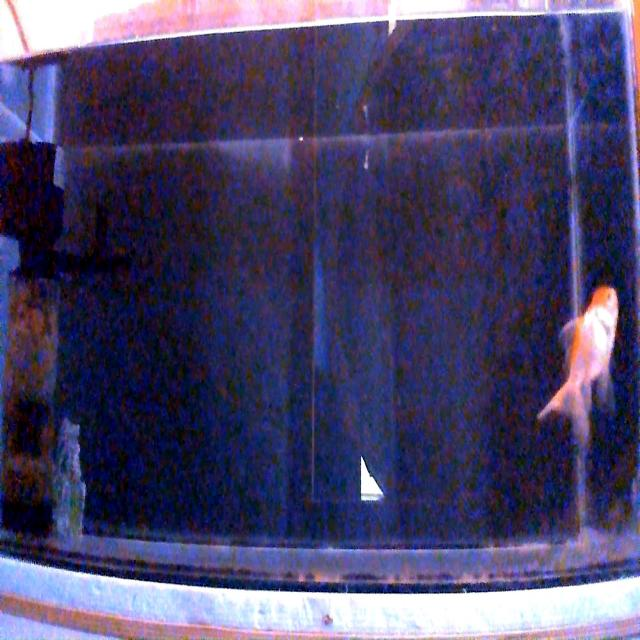fish: (535, 284, 618, 430)
